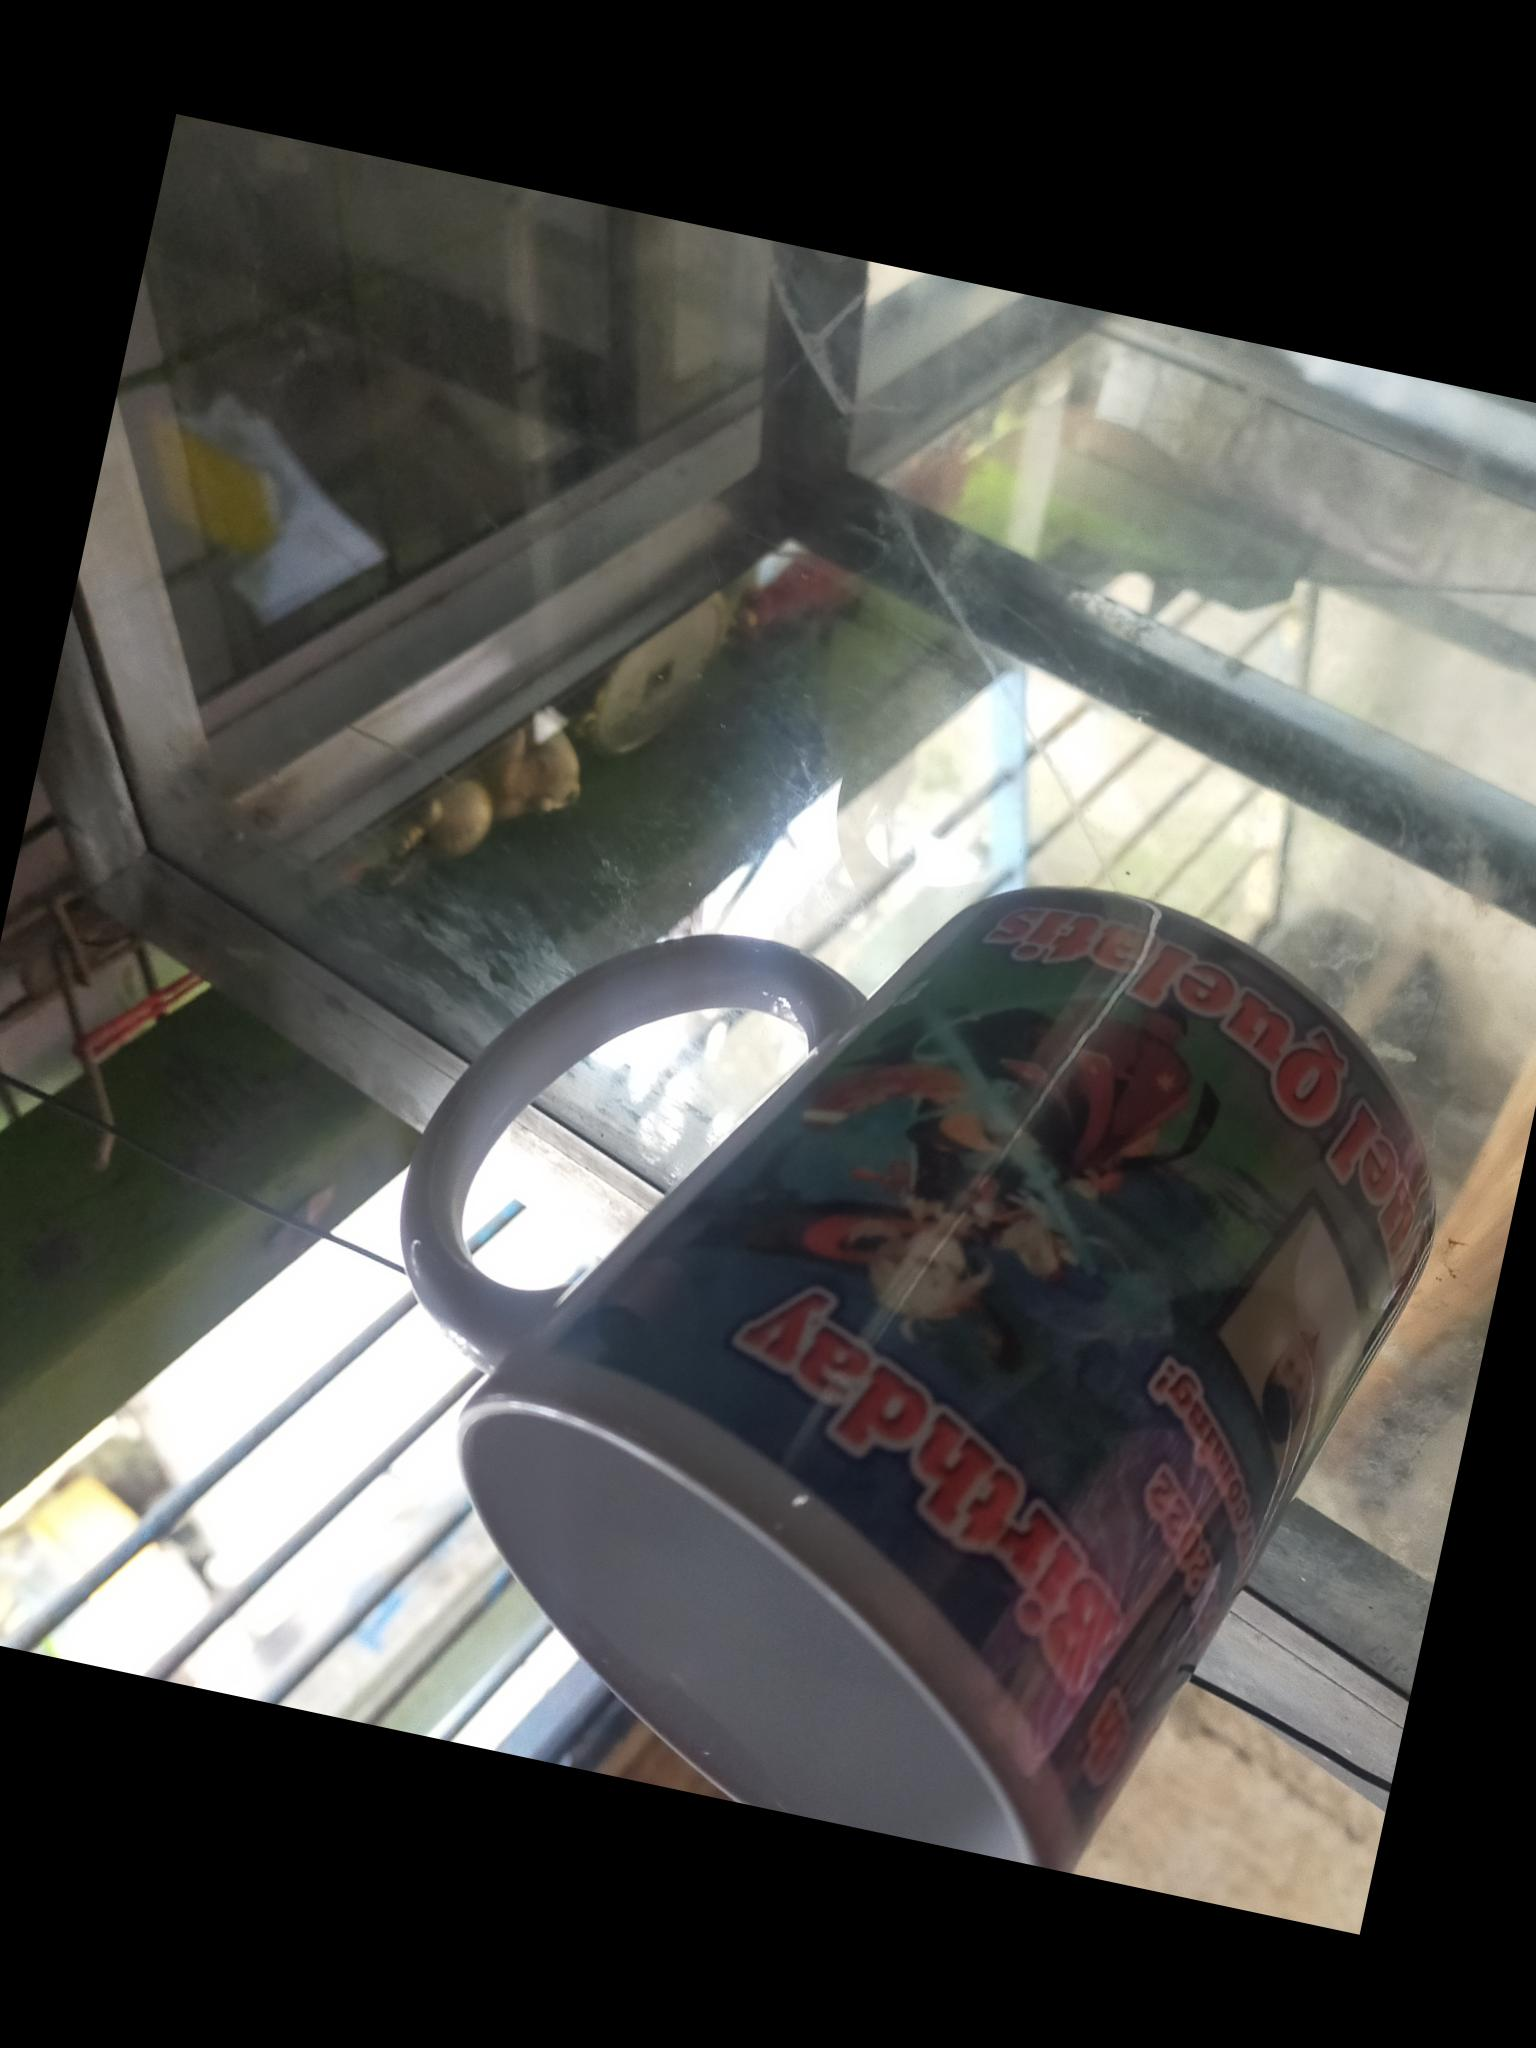Coffee Mug: (289, 758, 1486, 1919)
